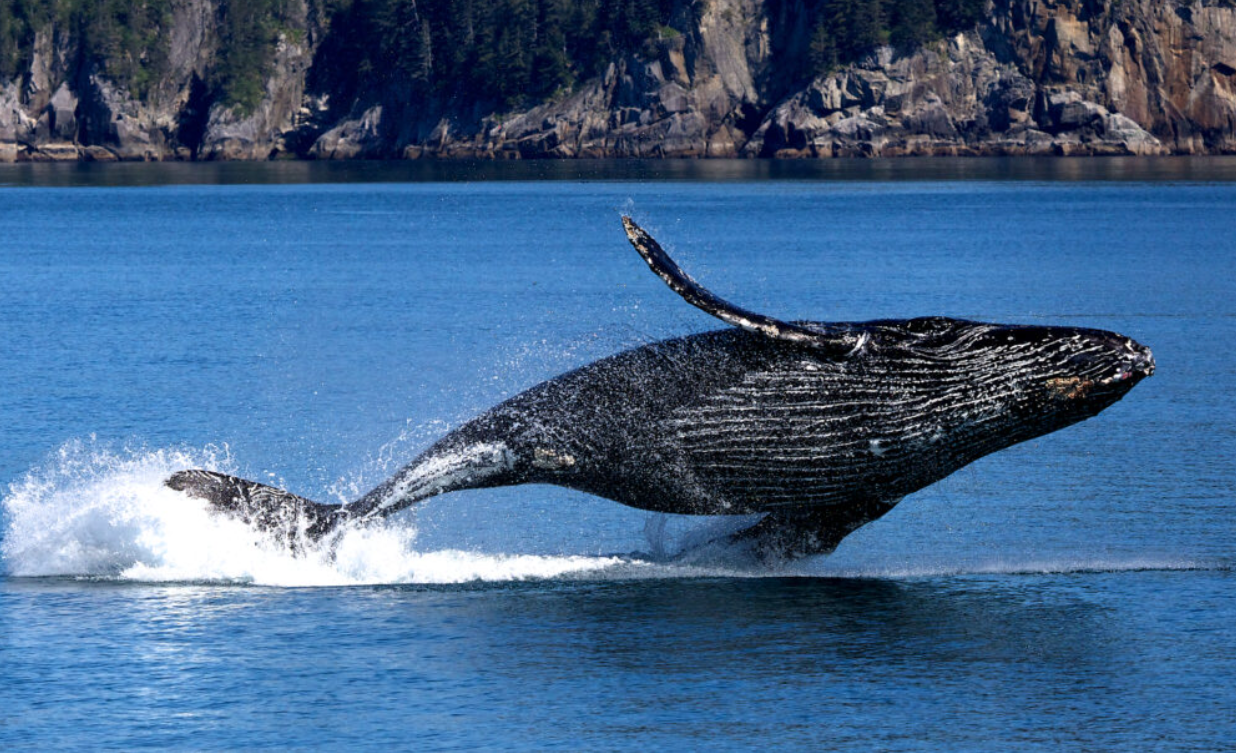Humpback whale: (162, 212, 1164, 579)
